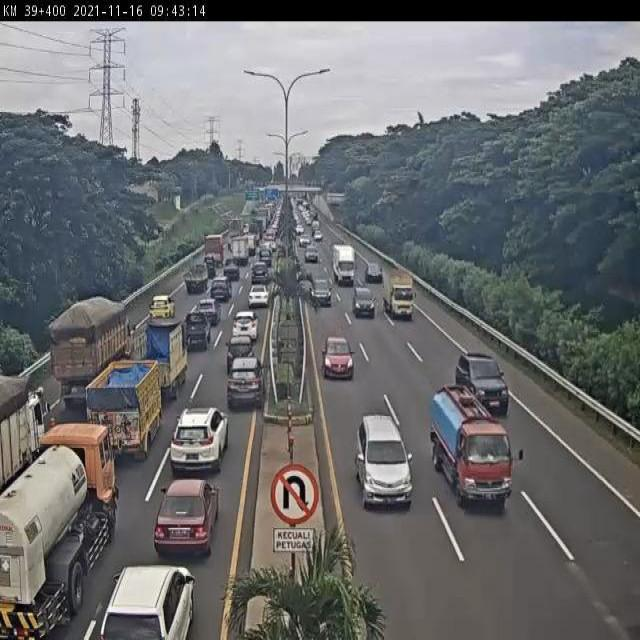car: (97, 556, 201, 640), (352, 411, 415, 520), (152, 476, 219, 560), (449, 343, 514, 417), (166, 405, 228, 472), (220, 360, 268, 421), (222, 332, 259, 376), (321, 340, 355, 383), (191, 295, 225, 328), (148, 294, 179, 326), (230, 314, 261, 346), (349, 285, 375, 319), (246, 283, 274, 312), (182, 264, 208, 295), (206, 276, 232, 304), (219, 255, 241, 285), (309, 280, 331, 309), (251, 260, 272, 283), (364, 259, 383, 284), (255, 248, 276, 268), (303, 242, 320, 262)
small truck: (418, 385, 519, 507), (383, 266, 415, 314), (180, 311, 214, 353), (329, 246, 356, 286), (229, 235, 250, 269)
truck-l-: (42, 292, 134, 415), (0, 369, 51, 491)
truck-m-: (0, 417, 124, 640), (88, 354, 164, 454), (126, 316, 191, 400)
